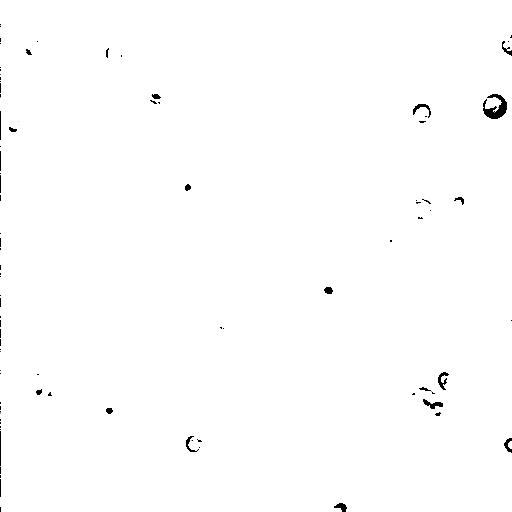micro-algae: (413, 300, 510, 399), (148, 53, 228, 139), (283, 213, 365, 292), (17, 451, 93, 512), (237, 122, 298, 187), (129, 6, 185, 60), (481, 446, 511, 511), (23, 1, 89, 30), (343, 67, 386, 109), (409, 459, 453, 500), (371, 3, 411, 48), (225, 253, 260, 290), (43, 427, 77, 458), (404, 196, 437, 227), (486, 326, 511, 366), (411, 386, 443, 415), (315, 273, 343, 304), (54, 141, 81, 170), (27, 370, 51, 402), (172, 174, 199, 202), (481, 92, 509, 119), (3, 110, 27, 138), (375, 223, 399, 251), (98, 395, 120, 423), (21, 33, 43, 58), (121, 333, 143, 356), (413, 101, 431, 125), (437, 371, 456, 391), (185, 434, 203, 453), (105, 44, 121, 65), (497, 33, 511, 55), (450, 196, 466, 213), (330, 501, 348, 511), (503, 434, 511, 454)
